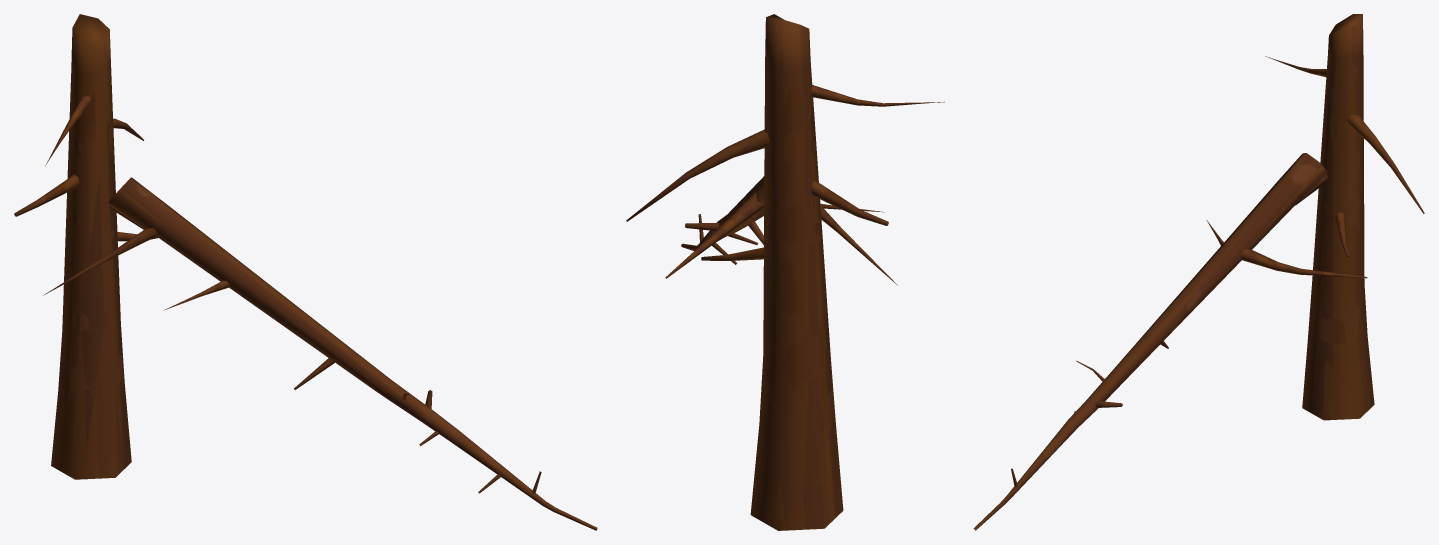
Rendered from STPine6.glb.
The picture shows the model from 3 angles, left to right: view 1: azimuth 30°, elevation 25°; view 2: azimuth 150°, elevation 25°; view 3: azimuth 270°, elevation 25°; orthographic projection. The views are drawn at different scales.
Parts seen in each view (by area): view 1: DeadPine2; view 2: DeadPine2; view 3: DeadPine2.
Boxes of the visible parts, x1,y1,x2,y2 form: DeadPine2: (14, 14, 597, 530); DeadPine2: (626, 14, 944, 530); DeadPine2: (973, 14, 1424, 530).
Size of the model in its own units: 5.12 by 5.49 by 5.72.
1 material, 1 textured.
